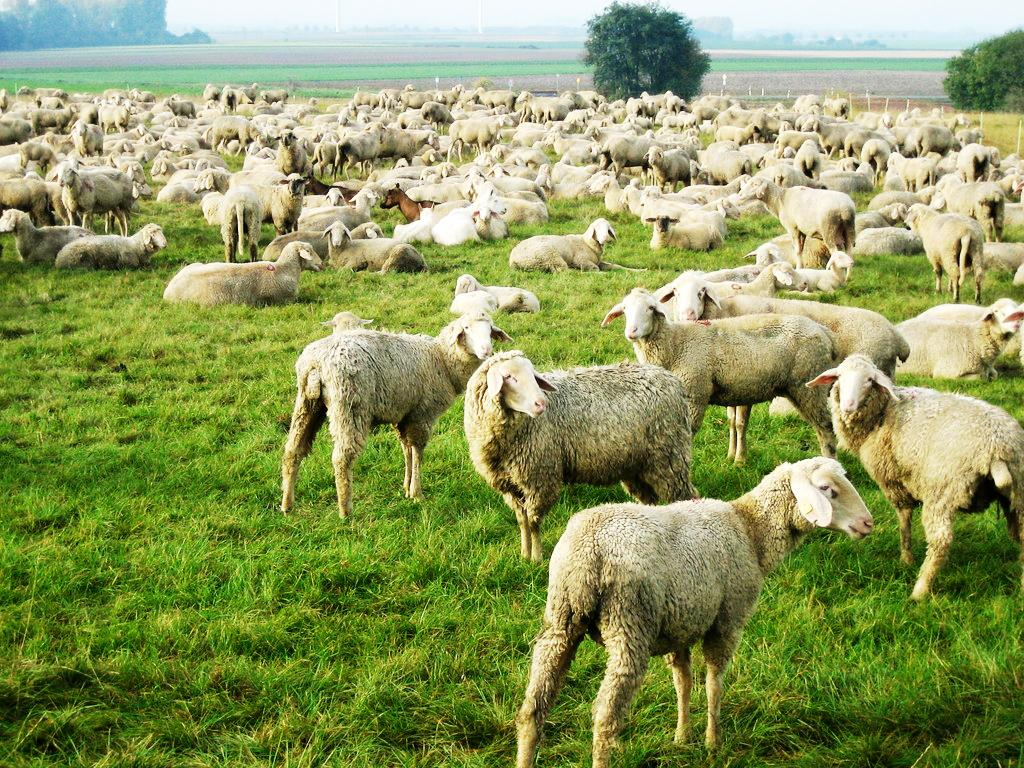Sheep: (511, 451, 877, 768), (272, 304, 519, 530), (823, 346, 1024, 620), (460, 344, 698, 566), (663, 278, 886, 463), (612, 283, 838, 461), (900, 292, 1024, 396), (733, 171, 859, 273), (158, 242, 334, 312), (509, 213, 639, 284), (906, 205, 990, 298), (191, 170, 269, 263), (52, 161, 146, 226), (326, 226, 428, 284), (262, 217, 386, 262), (58, 226, 170, 275), (936, 171, 1009, 244), (317, 304, 391, 371), (430, 186, 510, 244), (711, 257, 809, 303), (454, 274, 544, 314), (692, 241, 782, 281), (646, 211, 722, 255), (778, 252, 856, 294), (5, 200, 54, 264), (303, 190, 376, 232), (450, 112, 519, 152), (587, 173, 644, 218), (269, 126, 320, 176), (956, 142, 1003, 192), (801, 118, 864, 154), (887, 150, 939, 192), (850, 200, 913, 234), (269, 168, 310, 220), (388, 124, 440, 164), (332, 124, 384, 164), (867, 186, 940, 214), (378, 180, 422, 224), (698, 151, 751, 187), (151, 157, 218, 185), (445, 290, 524, 313), (538, 115, 578, 159), (471, 204, 515, 244), (534, 169, 588, 200), (646, 144, 689, 182), (485, 142, 549, 167), (300, 184, 353, 214), (843, 125, 886, 161), (790, 137, 824, 181), (32, 101, 80, 130), (915, 126, 954, 160), (99, 99, 135, 135), (515, 80, 553, 114), (74, 122, 110, 156), (580, 116, 606, 159), (862, 136, 888, 174), (93, 138, 137, 160), (719, 125, 769, 144), (161, 97, 199, 122), (377, 82, 415, 106), (956, 121, 986, 151), (98, 87, 143, 107), (858, 111, 895, 130), (425, 161, 461, 179), (220, 82, 239, 116), (822, 97, 850, 119), (432, 84, 470, 100), (259, 86, 289, 105), (340, 98, 374, 113), (132, 119, 154, 140), (488, 160, 508, 183), (0, 85, 13, 110)
